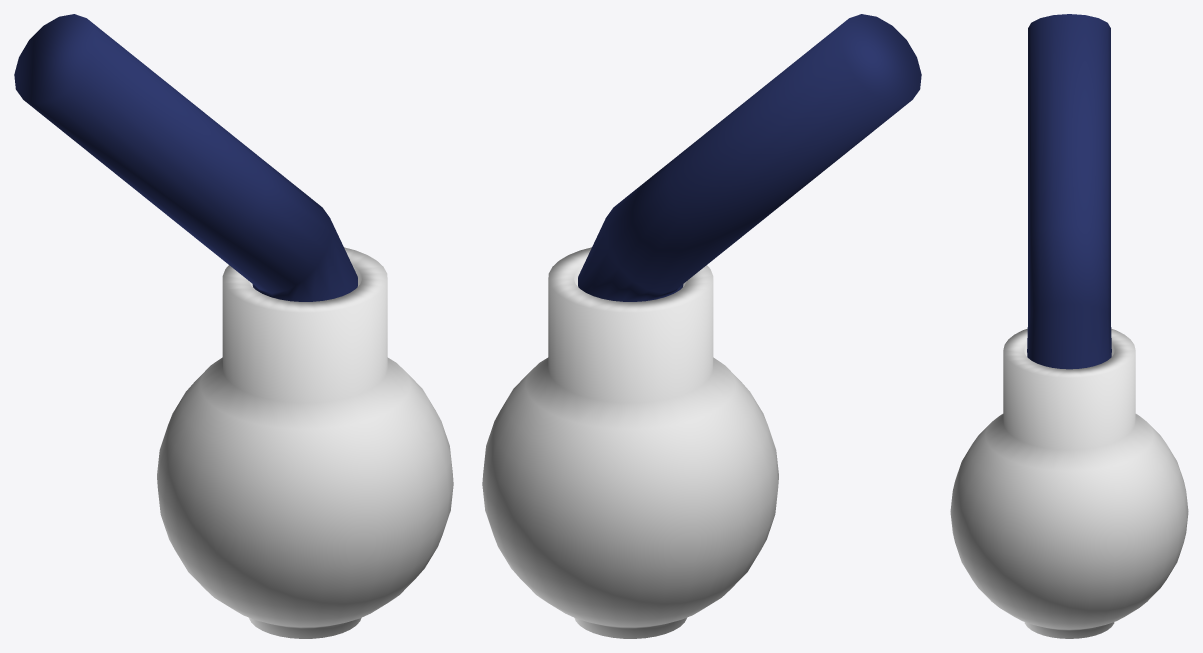
Rendered from SpherePotionOpen.fbx.
The picture shows the model from 3 angles, left to right: view 1: azimuth 30°, elevation 25°; view 2: azimuth 150°, elevation 25°; view 3: azimuth 270°, elevation 25°; orthographic projection. The views are drawn at different scales.
Visible parts, largest first — view 1: SpherePotionOpen; view 2: SpherePotionOpen; view 3: SpherePotionOpen.
Boxes of the visible parts, bbox=[...] form: SpherePotionOpen: bbox=[14, 14, 453, 638]; SpherePotionOpen: bbox=[482, 14, 921, 638]; SpherePotionOpen: bbox=[950, 14, 1188, 638].
Size of the model in its own units: 287 by 434 by 180.
